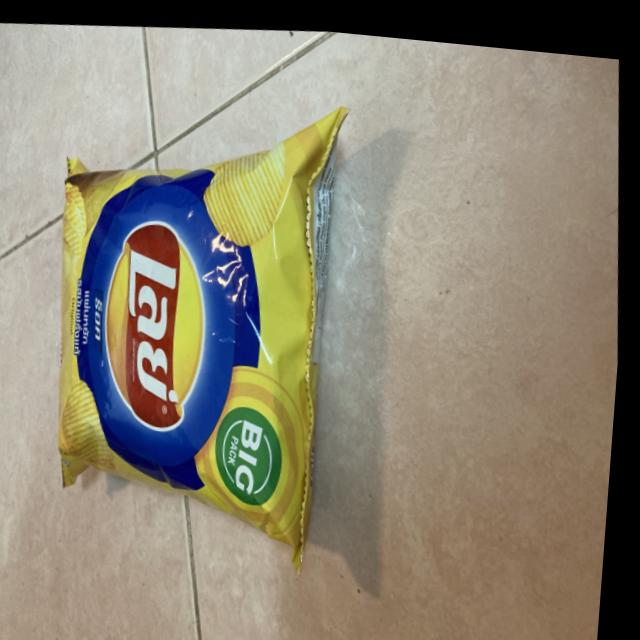LayYellow: (34, 93, 372, 510)
